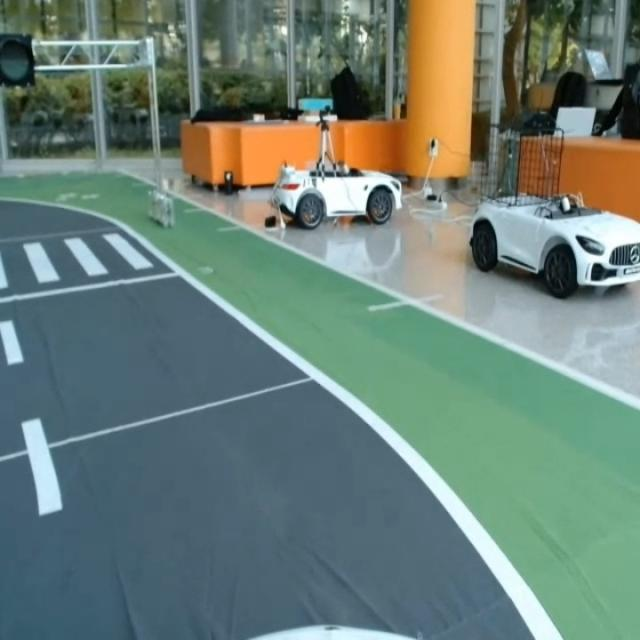traffic-light: (0, 33, 45, 91)
